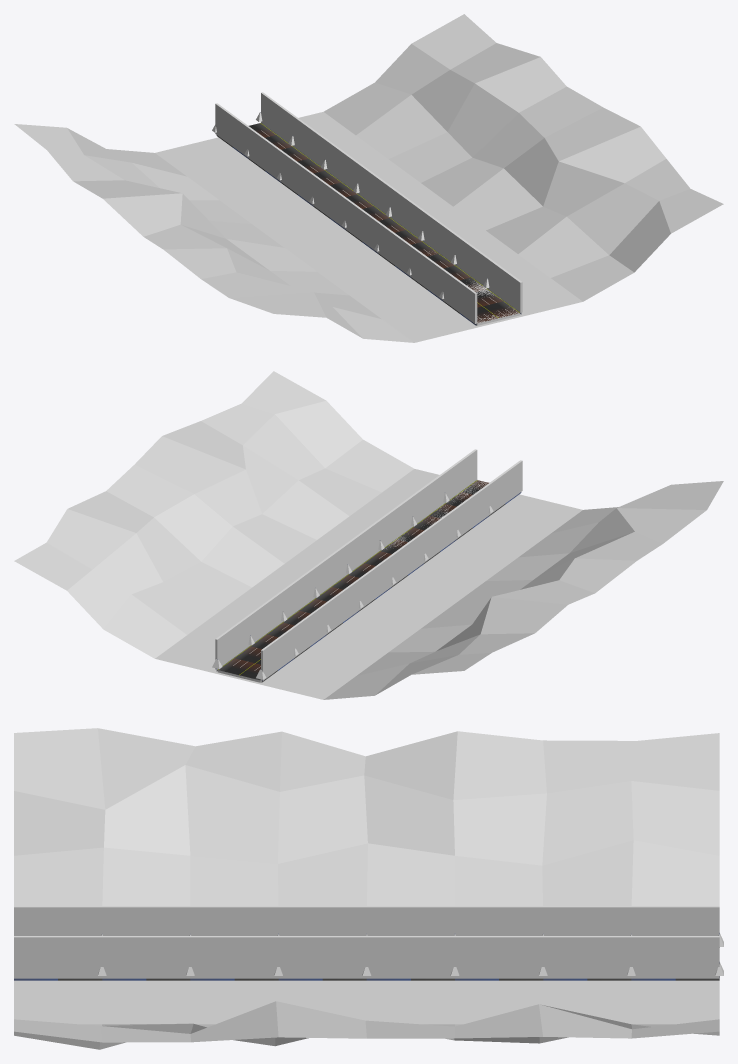
Rendered from RoadLevel2_var1.fbx.
The picture shows the model from 3 angles, top to bottom: view 1: azimuth 30°, elevation 25°; view 2: azimuth 150°, elevation 25°; view 3: azimuth 270°, elevation 25°; orthographic projection. The views are drawn at different scales.
Parts seen in each view (by area): view 1: RoadLevel2_var1, RoadLevel2_cldr_walls; view 2: RoadLevel2_var1, RoadLevel2_cldr_walls; view 3: RoadLevel2_var1, RoadLevel2_cldr_walls.
Part boxes in pixels (x1,y1,x2,y2): RoadLevel2_var1: [14, 14, 723, 342]; RoadLevel2_cldr_walls: [215, 92, 522, 323]; RoadLevel2_var1: [14, 371, 723, 699]; RoadLevel2_cldr_walls: [215, 449, 522, 680]; RoadLevel2_var1: [14, 728, 723, 1049]; RoadLevel2_cldr_walls: [14, 906, 719, 978].
Size of the model in its own units: 426 by 56.19 by 402.
